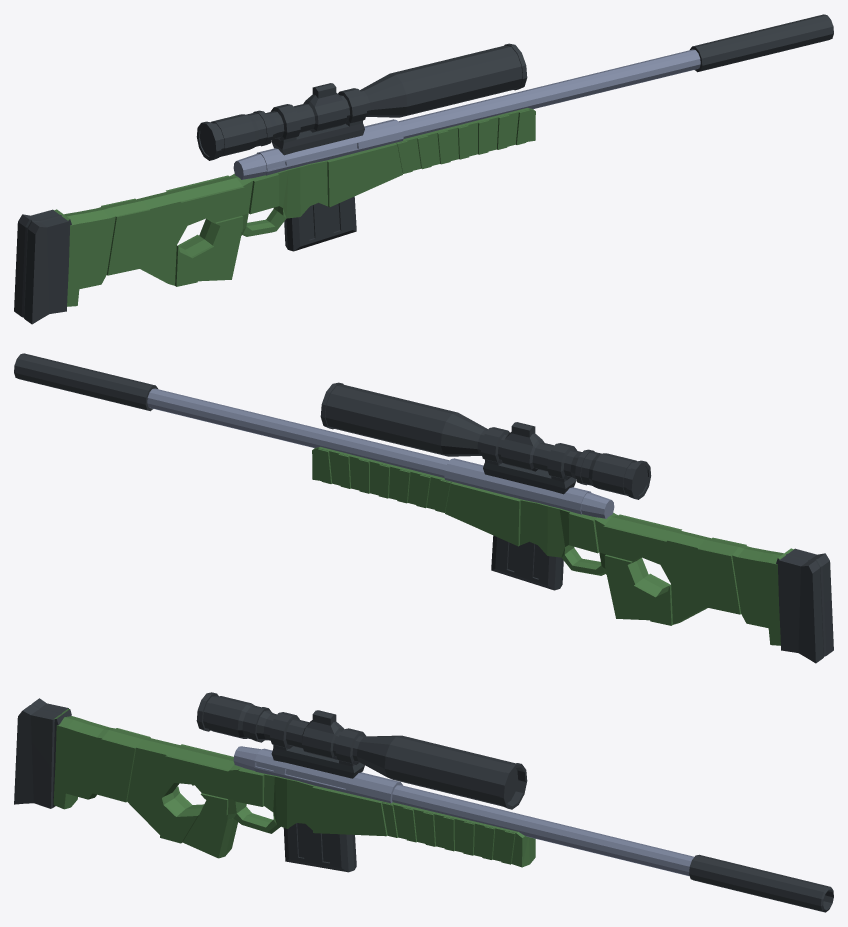
Rendered from Sniper.fbx.
The picture shows the model from 3 angles, top to bottom: view 1: azimuth 30°, elevation 25°; view 2: azimuth 150°, elevation 25°; view 3: azimuth 330°, elevation 25°; orthographic projection.
Parts seen in each view (by area): view 1: Sniper; view 2: Sniper; view 3: Sniper.
Part boxes in pixels (x1=…): Sniper: x1=14, y1=14, x2=833, y2=324; Sniper: x1=14, y1=353, x2=833, y2=663; Sniper: x1=14, y1=692, x2=833, y2=912.
Bounding box in the file's own units: 283 × 56.34 × 14.27.
